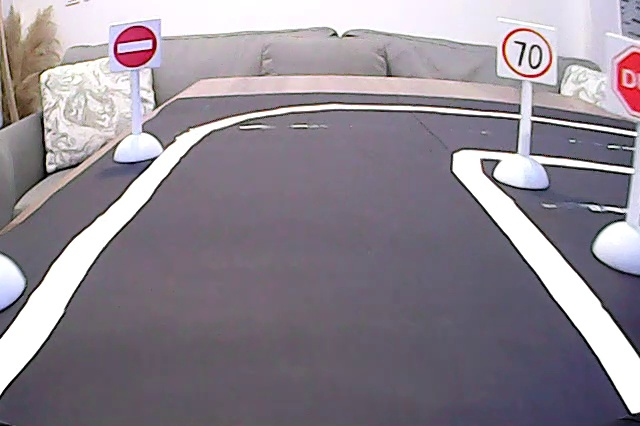do not enter: (109, 21, 161, 73)
speed limit 70: (498, 20, 556, 84)
